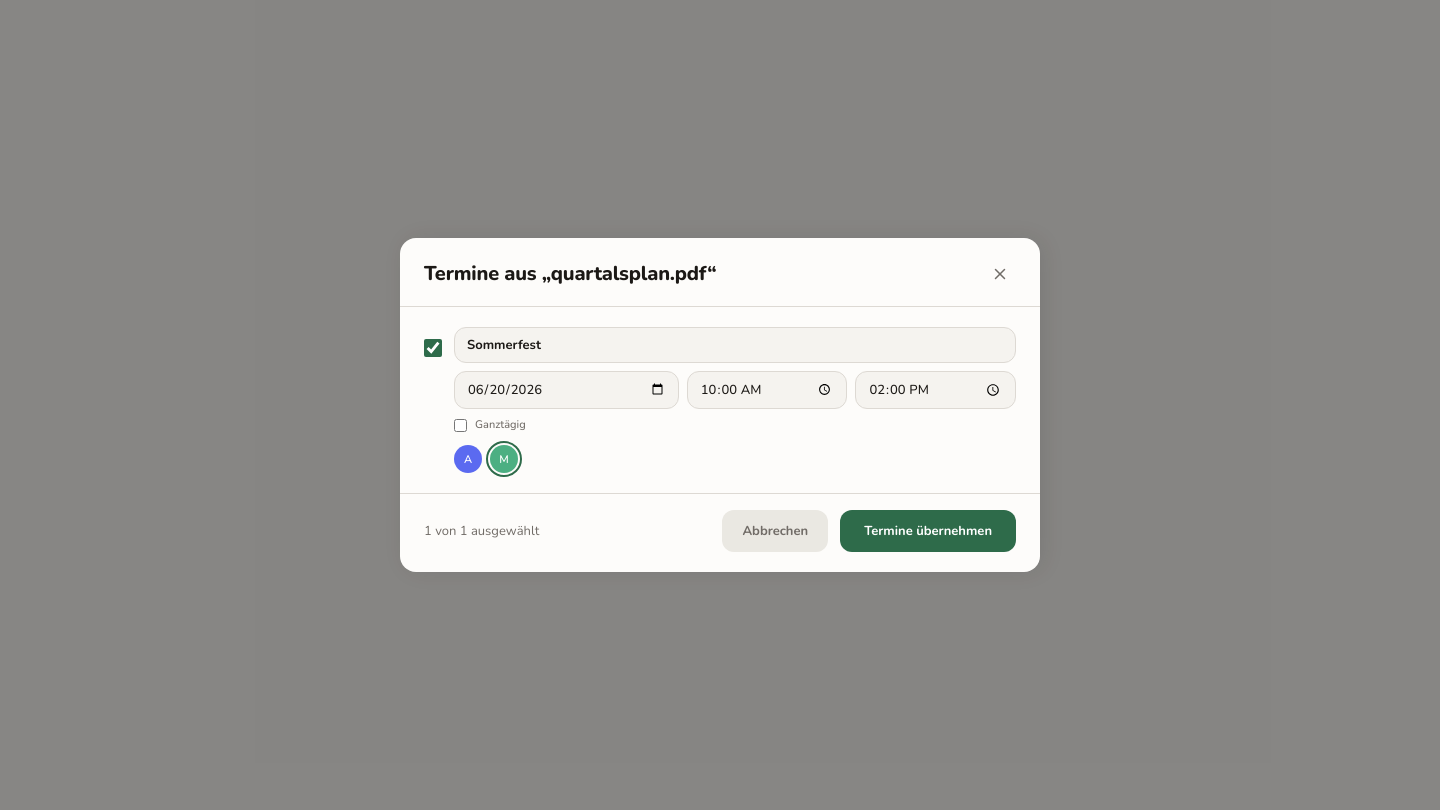
ExtractEventsModal — Termine übernehmen › Button ist disabled, wenn keine Termine ausgewählt sind
Click the checkbox named "Sommerfest übernehmen".
click(433, 348)  # box [424, 339, 442, 357]
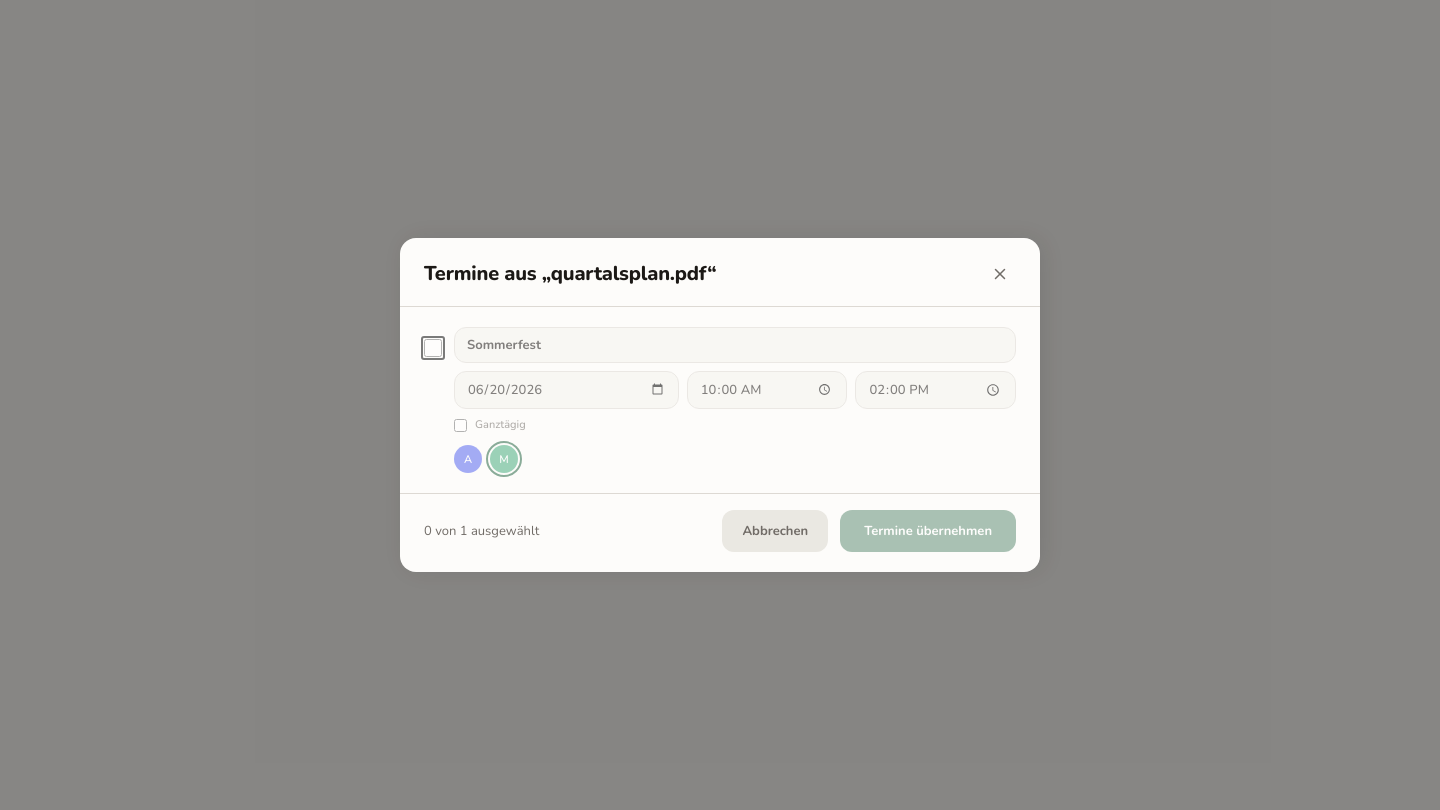
Now the button "Termine übernehmen" is disabled, box [840, 510, 1016, 552]
